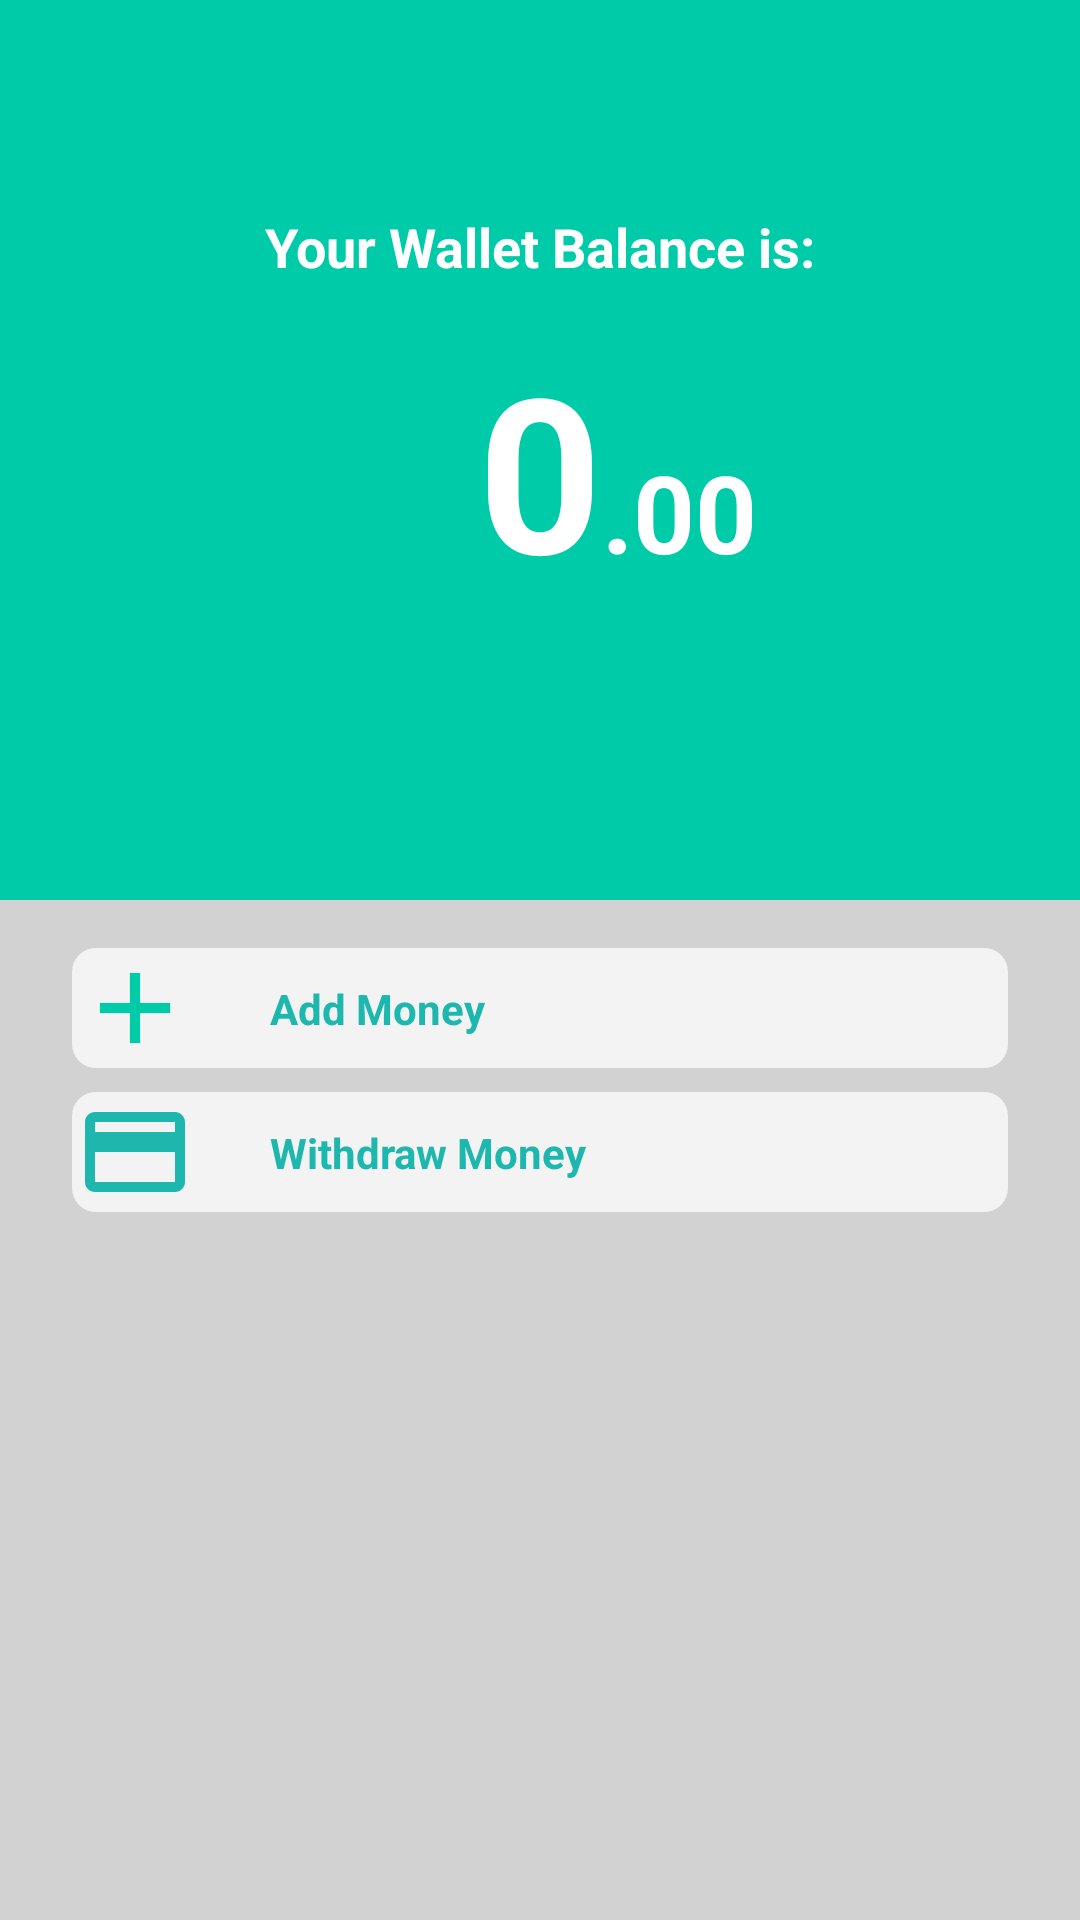

Named icons in this screenshot (1080 × 1920) and their bounding boxes, (x1, y1, x2, y2):
payment: (72, 1092, 198, 1212)
